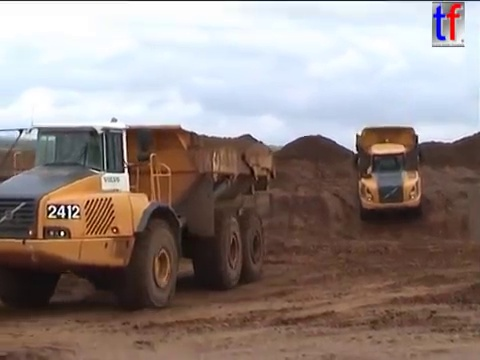truck: (1, 118, 279, 312), (351, 124, 426, 223)
